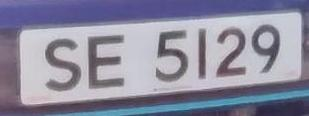1: (189, 21, 216, 88)
2: (210, 19, 253, 86)
5: (148, 22, 194, 90)
9: (247, 19, 286, 79)
E: (80, 28, 131, 93)
S: (35, 30, 89, 99)
